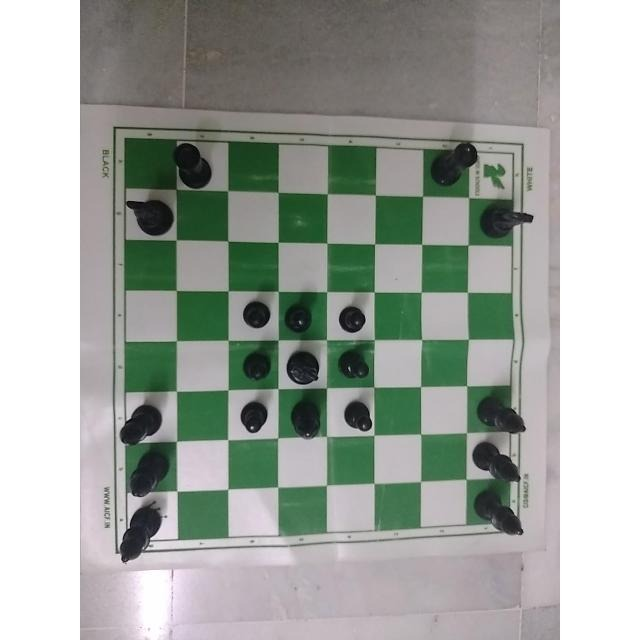black-bishop: (114, 508, 178, 571), (461, 438, 543, 487), (458, 390, 535, 437), (464, 492, 532, 539), (122, 450, 178, 504), (109, 400, 166, 448), (282, 398, 326, 452)
black-knight: (484, 191, 540, 251), (124, 194, 178, 244), (277, 343, 319, 389)
black-pawn: (335, 340, 379, 391), (236, 288, 278, 339), (333, 292, 373, 344), (232, 344, 271, 391), (338, 391, 384, 430), (283, 290, 316, 337), (241, 391, 273, 439)
black-rook: (431, 135, 481, 189), (173, 141, 213, 191)
